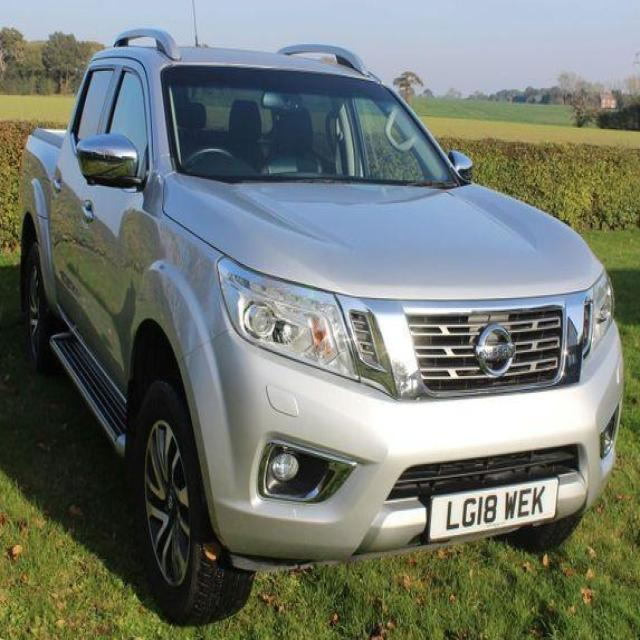CMT: (19, 41, 622, 631)
